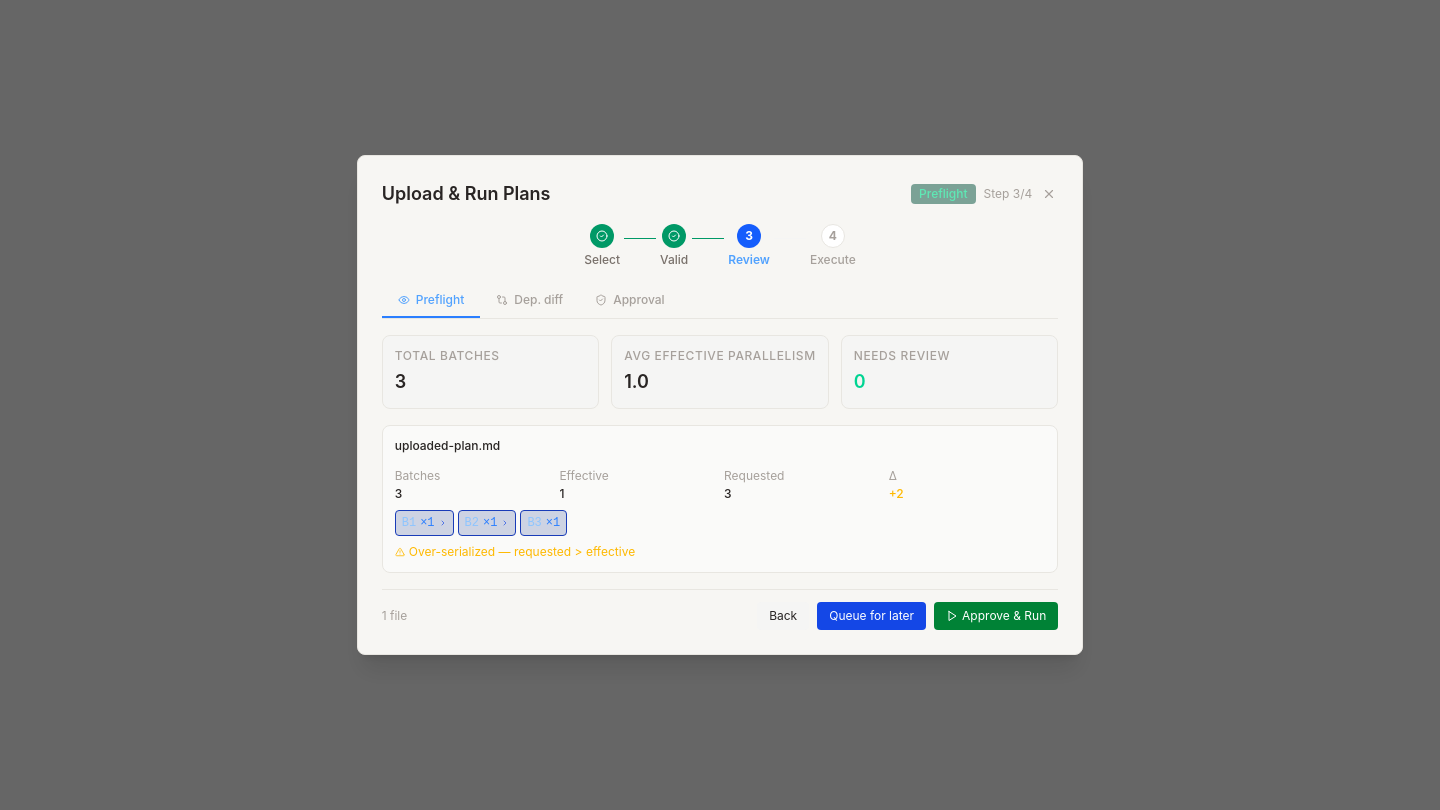
AC 4: User can compare original and edited dependency graph › shows no dependency changes message in dep diff tab
This screenshot has width=1440, height=810.
# Click the Dep. diff tab
Click the button "Dep. diff" at x=530, y=301, box [480,284,579,318]
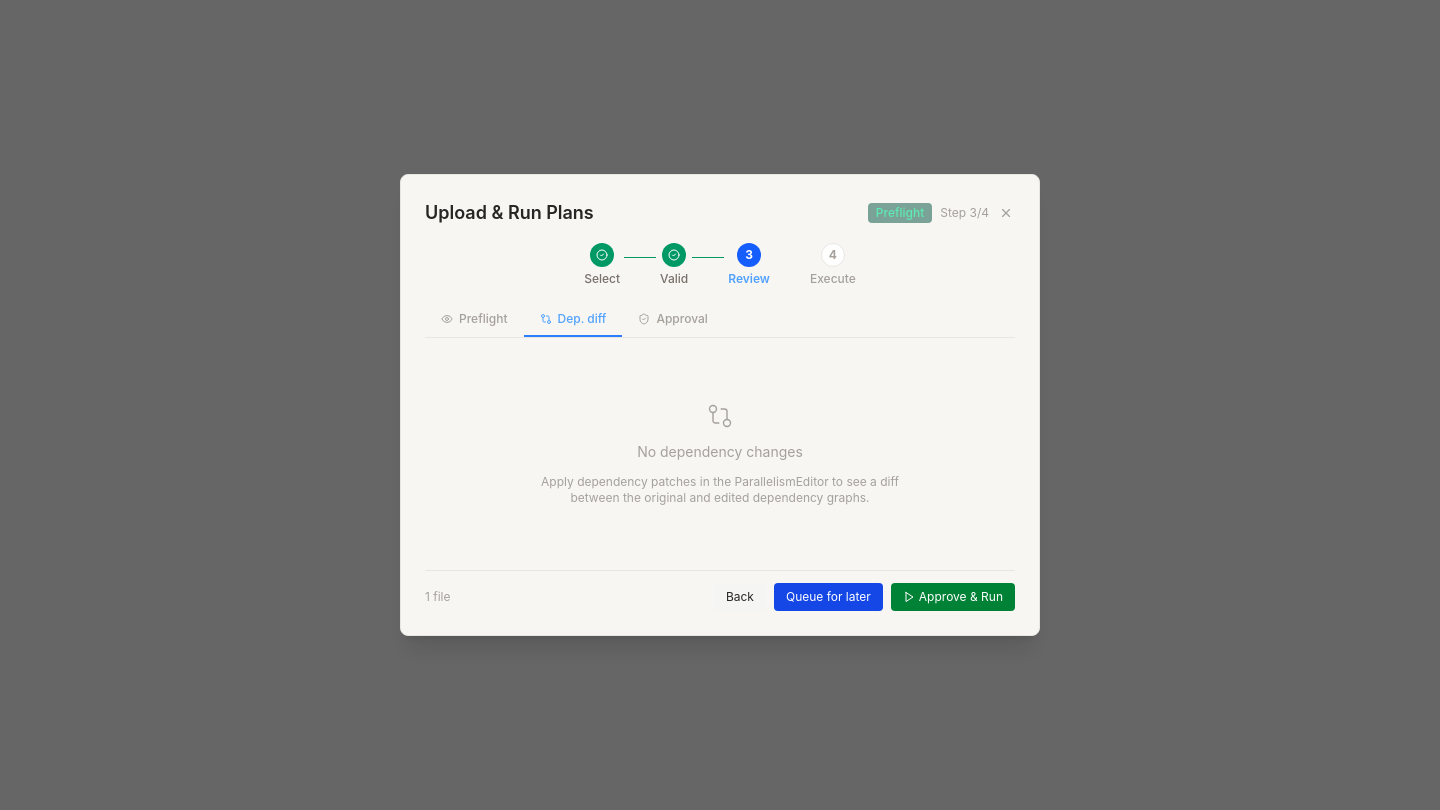
expect the text "No dependency changes" is shown: met, box [637,442,803,462]
